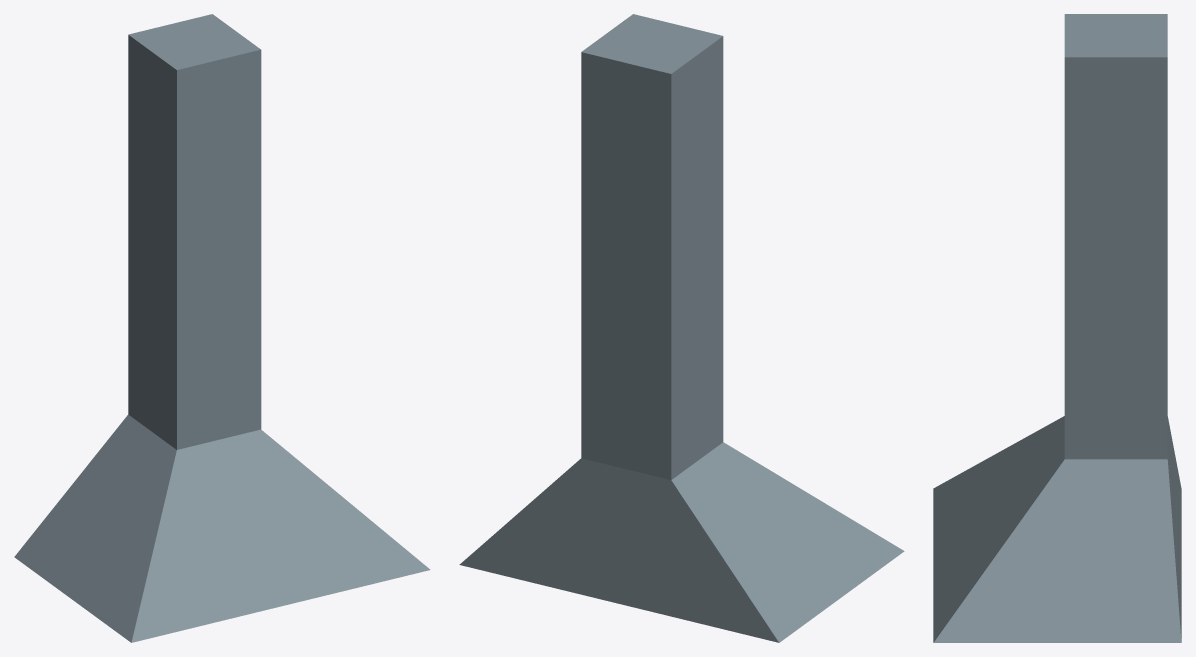
File: KitchenVent.fbx
The picture shows the model from 3 angles, left to right: view 1: azimuth 30°, elevation 25°; view 2: azimuth 150°, elevation 25°; view 3: azimuth 270°, elevation 25°; orthographic projection. The views are drawn at different scales.
Visible parts, largest first — view 1: KitchenVent; view 2: KitchenVent; view 3: KitchenVent.
Part boxes in pixels (bbox=[...]): KitchenVent: bbox=[14, 14, 430, 642]; KitchenVent: bbox=[459, 14, 904, 642]; KitchenVent: bbox=[933, 14, 1181, 642].
Bounding box in the file's own units: 151 × 102 × 241.
Materials: 1 (1 with a texture image).
